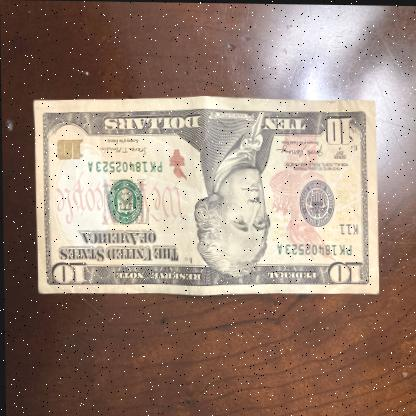ten-front: (34, 94, 378, 297)
